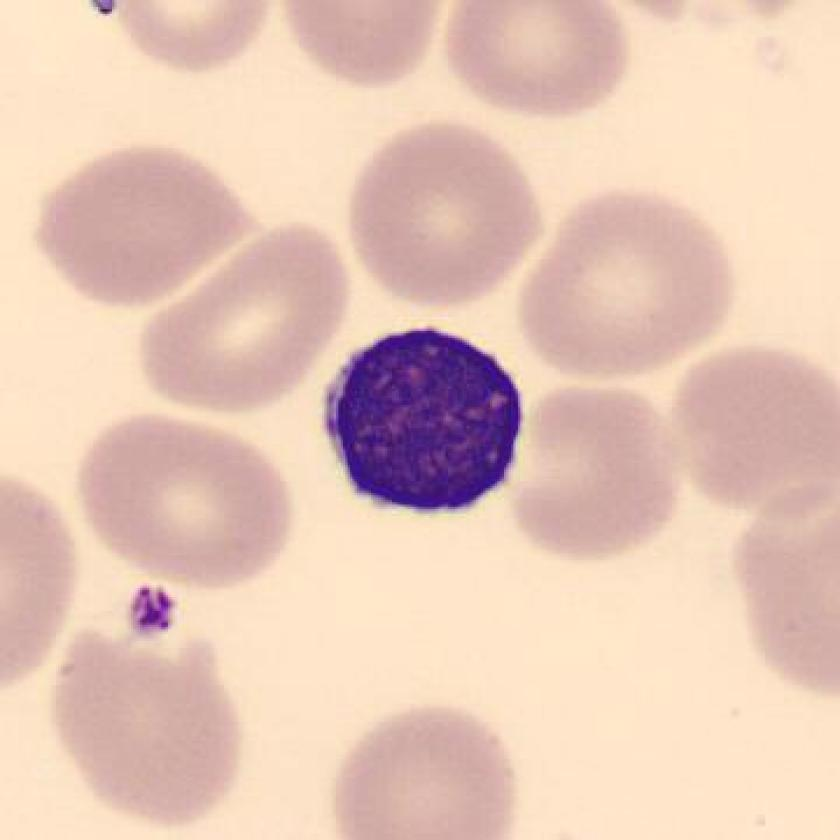lymphocyte: (314, 311, 538, 529)
